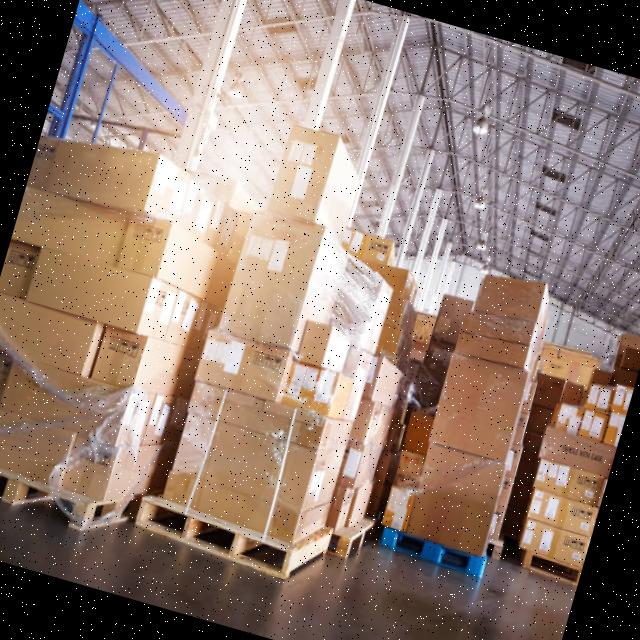Wooden-Pallets: (128, 487, 380, 582), (131, 490, 328, 581), (0, 454, 133, 538)
